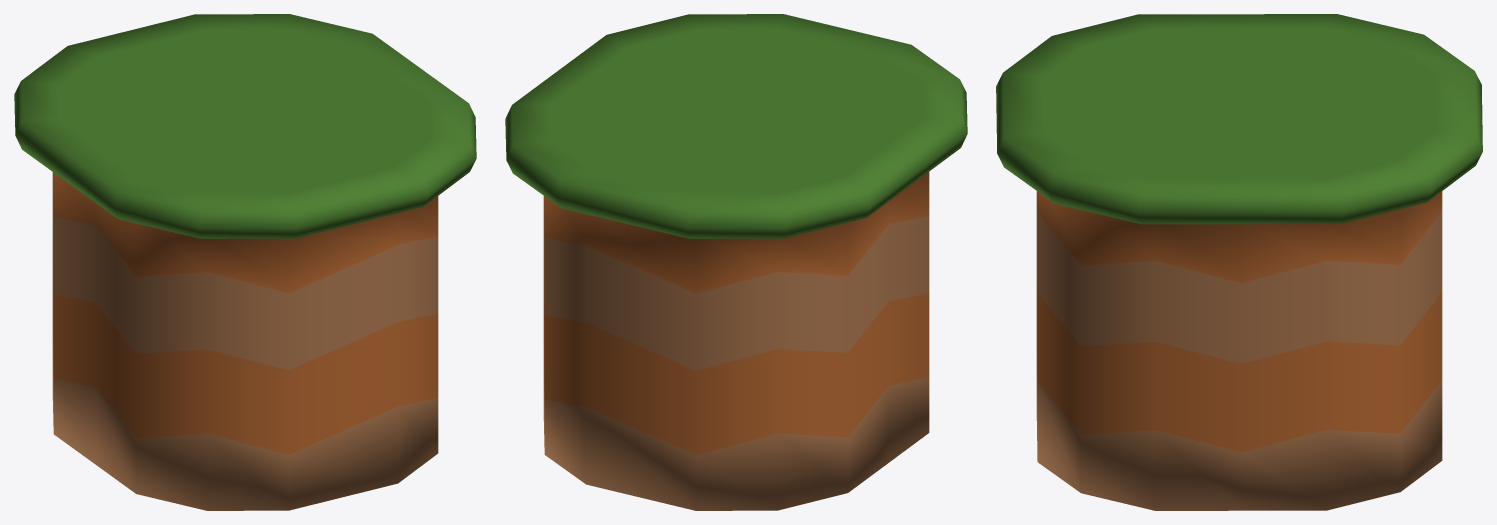
File: Platform03.fbx
3 renders of one model, left to right at view 1: azimuth 30°, elevation 25°; view 2: azimuth 150°, elevation 25°; view 3: azimuth 270°, elevation 25°, orthographic. The views are drawn at different scales.
Visible parts, largest first — view 1: Grass_Platform_0; view 2: Grass_Platform_0; view 3: Grass_Platform_0.
Part boxes in pixels (x1,y1,x2,y2): Grass_Platform_0: (14, 14, 476, 510); Grass_Platform_0: (505, 14, 967, 510); Grass_Platform_0: (996, 14, 1482, 510).
Bounding box in the file's own units: 201 × 166 × 222.
